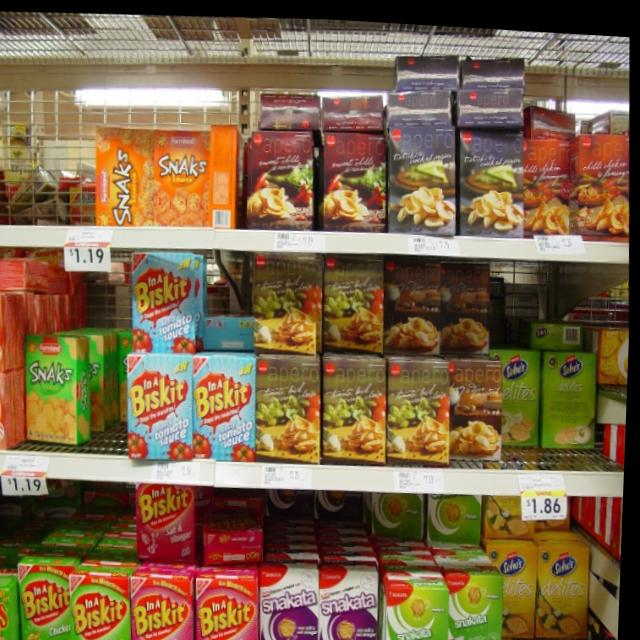q286: (76, 547, 138, 640), (16, 551, 77, 640)
